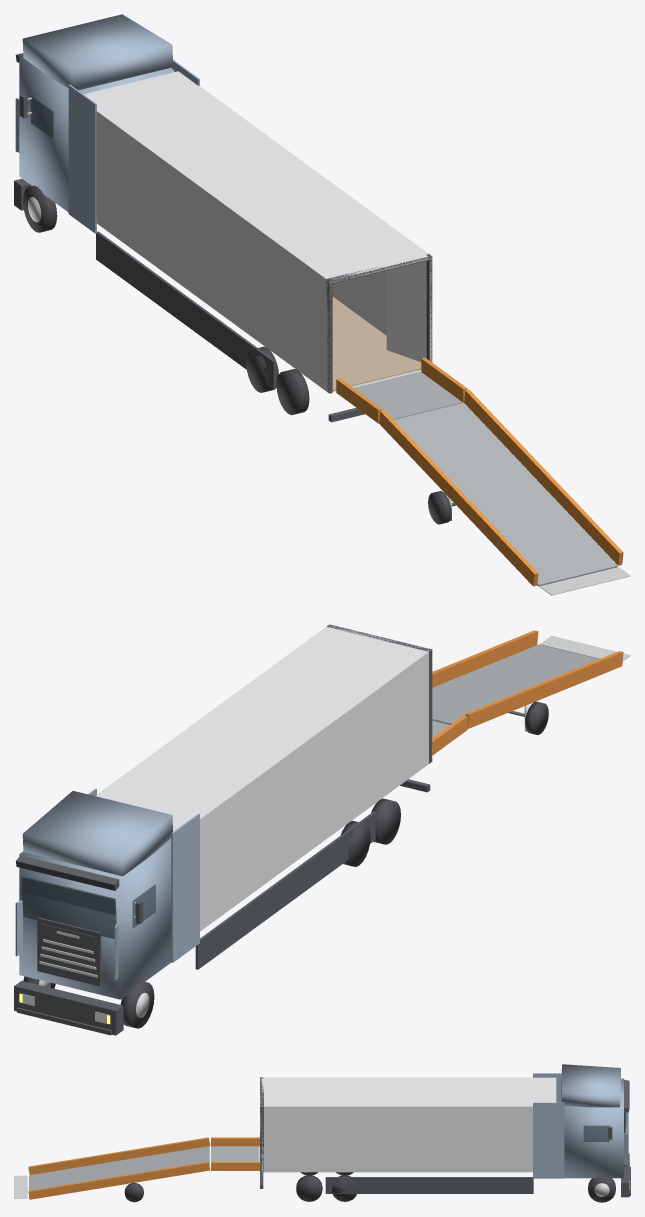
File: Truck.fbx
3 renders of one model, top to bottom at view 1: azimuth 30°, elevation 25°; view 2: azimuth 150°, elevation 25°; view 3: azimuth 270°, elevation 25°, orthographic. The views are drawn at different scales.
Visible parts, largest first — view 1: Vehicle_Aerodynamic_Semi_Open, Prop_Industrial_Yard_Ramp; view 2: Vehicle_Aerodynamic_Semi_Open, Prop_Industrial_Yard_Ramp; view 3: Vehicle_Aerodynamic_Semi_Open, Prop_Industrial_Yard_Ramp.
Boxes of the visible parts, x1,y1,x2,y2 form: Vehicle_Aerodynamic_Semi_Open: [14, 14, 432, 422]; Prop_Industrial_Yard_Ramp: [336, 357, 630, 595]; Vehicle_Aerodynamic_Semi_Open: [14, 624, 432, 1035]; Prop_Industrial_Yard_Ramp: [432, 630, 630, 755]; Vehicle_Aerodynamic_Semi_Open: [260, 1064, 630, 1202]; Prop_Industrial_Yard_Ramp: [14, 1137, 259, 1202].
Size of the model in its own units: 296 by 440 by 2256.
